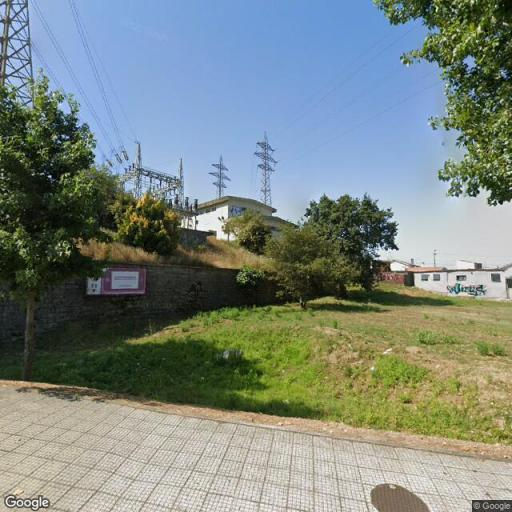ss_3: (250, 129, 282, 206), (209, 153, 232, 195)
